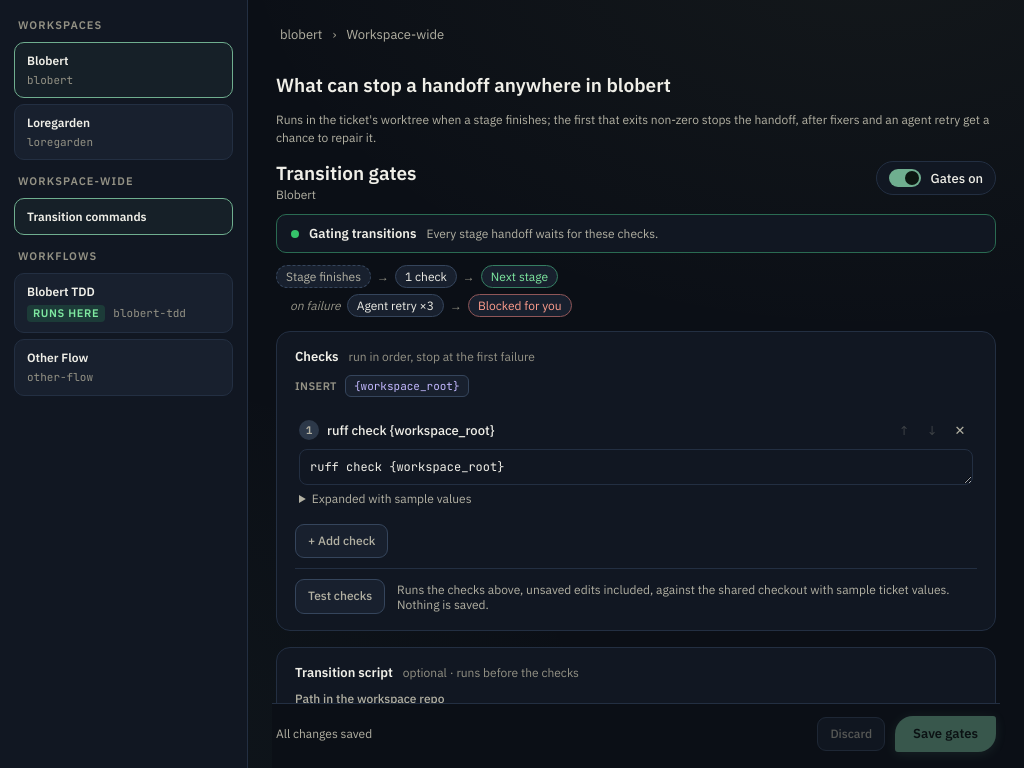
Scenario: GateStudioPanel › reloads the editor when switching workspaces
Expected: the text box showing "ruff check {workspace_root}" is shown, [299, 449, 973, 485]
Click the link "Loregarden loregarden": (124, 132) [14, 104, 233, 160]
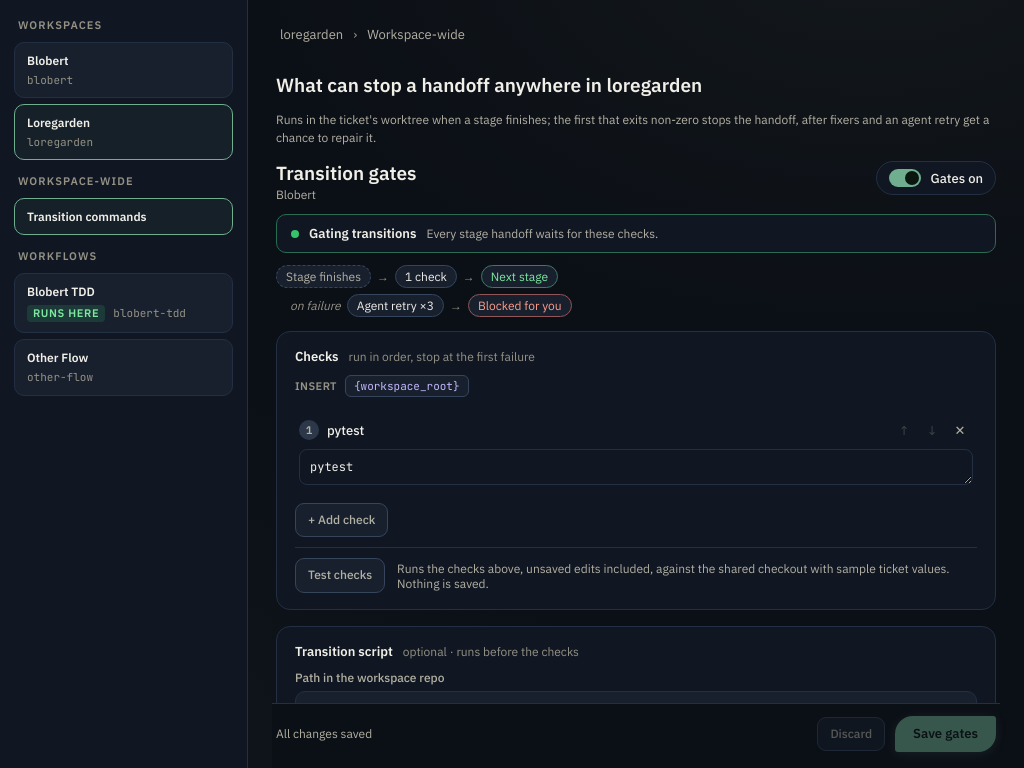
Result: the text box showing "pytest" is shown at [299, 449, 973, 485]
